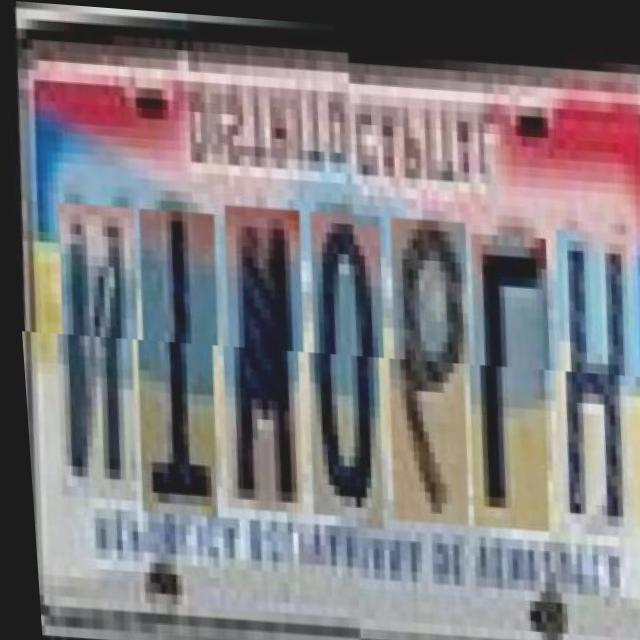6: (375, 201, 475, 510)
h: (541, 210, 640, 519)
l: (455, 215, 554, 514)
n: (44, 201, 143, 501)
o: (294, 206, 389, 514)
t: (124, 206, 223, 515)
w: (209, 201, 309, 509)
